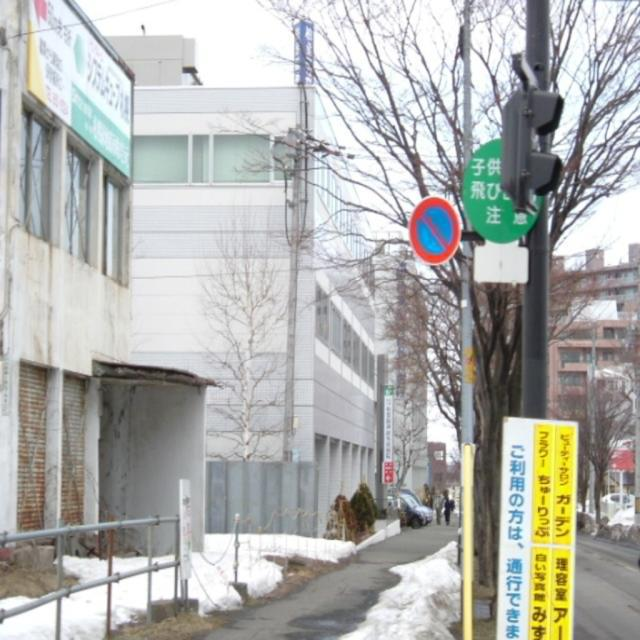off traffic light: (501, 91, 561, 194)
road_sign: (410, 196, 458, 263)
